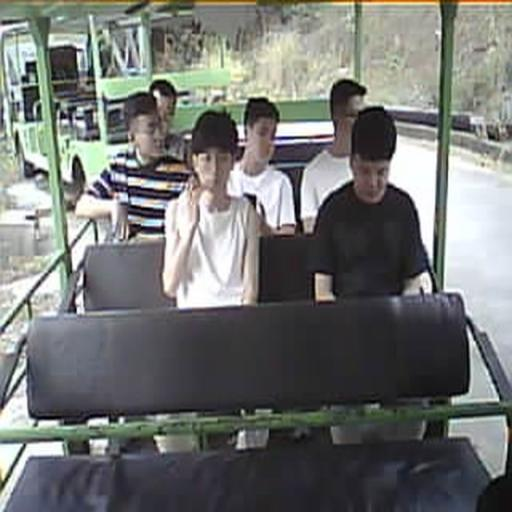persona: (311, 105, 437, 302), (162, 109, 272, 308), (75, 91, 193, 242), (299, 78, 368, 232), (227, 96, 297, 236), (148, 78, 191, 163)
